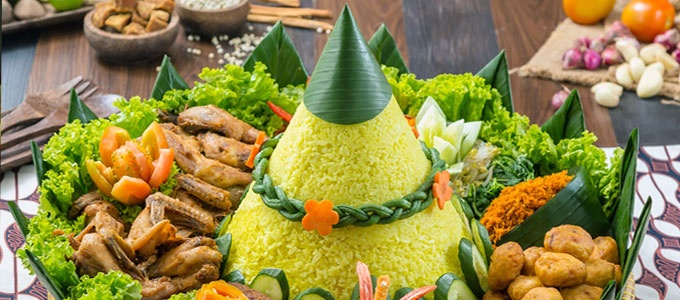tumpeng: (266, 5, 443, 198)
